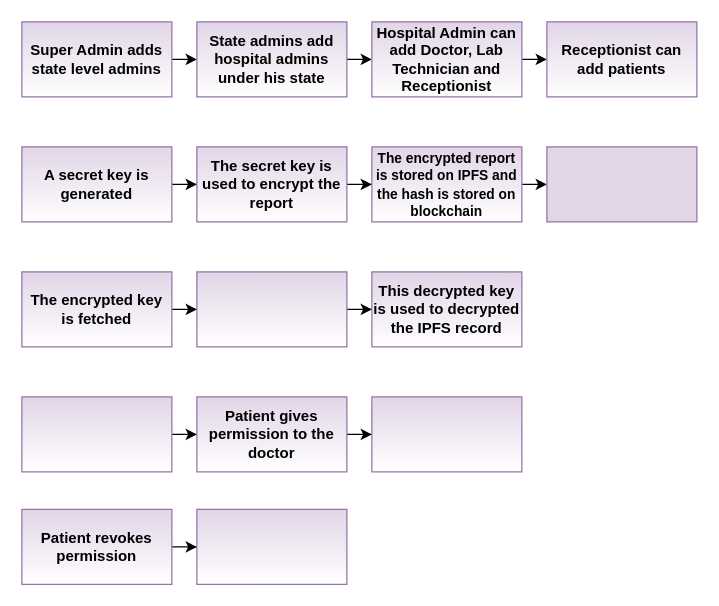
Some shapes in this 719 by 606 pixel diagram are drawn without their labels. The shapes that lost their labels are listed below. From the top down, each one's box as (x1, y1, x2, y2) in pixels, then its label:
(546, 146, 697, 222): The secret key is encrypted with permissioned user's public address
(196, 271, 347, 347): The encrypted key is decrypted using permissioned user's private key
(21, 396, 172, 472): Lab Uploads report
(371, 396, 522, 472): Doctor can now view the record as a pop in the webapp
(196, 508, 347, 584): Doctor can no longer see it
